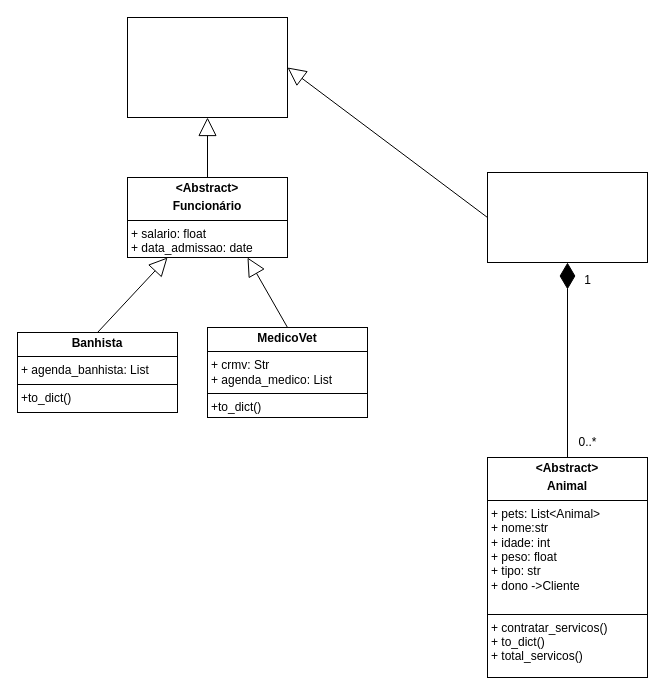
This 665x695 diagram has some shape labels left out. The box of each missing label's shape, as (x1, y1, x2, y2) in pixels:
<Abstract> Pessoa + nome: str + telefone: str + email: str: (126, 16, 288, 118)
Cliente + pets: List<Animal> + adicionar_pet() + to_dict(): (486, 172, 648, 262)
